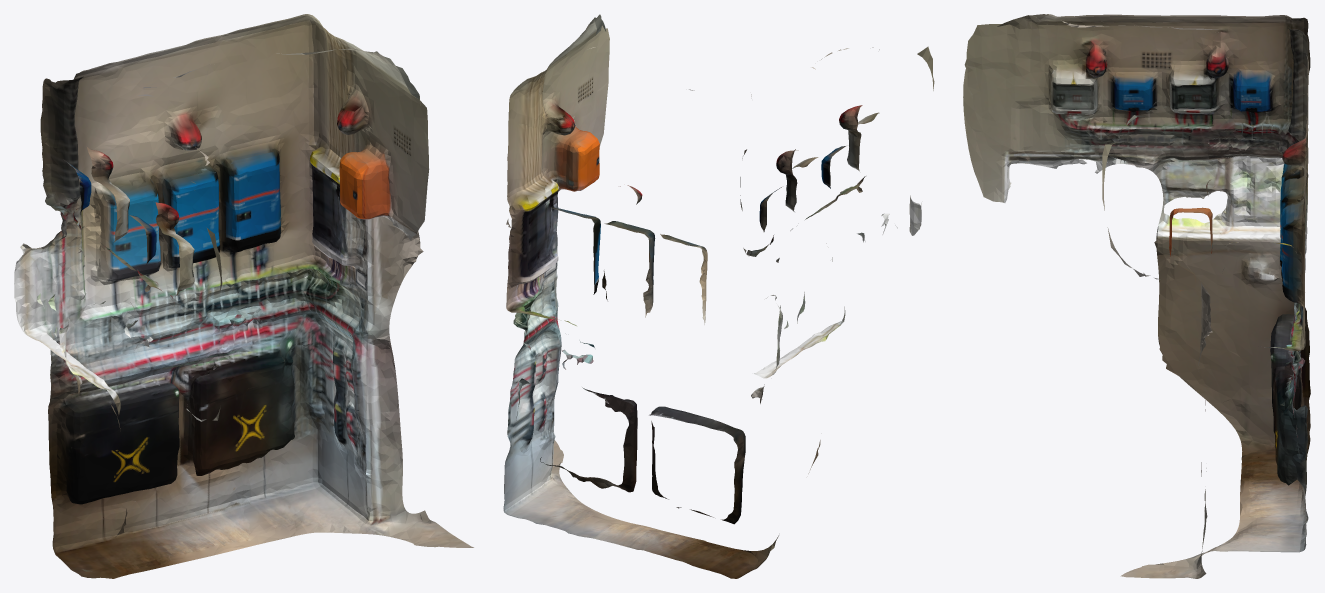
The model's file is ElectricalRoom.glb.
3 views of the same model, side by side, from view 1: azimuth 30°, elevation 25°; view 2: azimuth 150°, elevation 25°; view 3: azimuth 270°, elevation 25° (orthographic). The views are drawn at different scales.
Size of the model in its own units: 2.33 by 3.16 by 2.22.
Materials: 1 (1 with a texture image).
